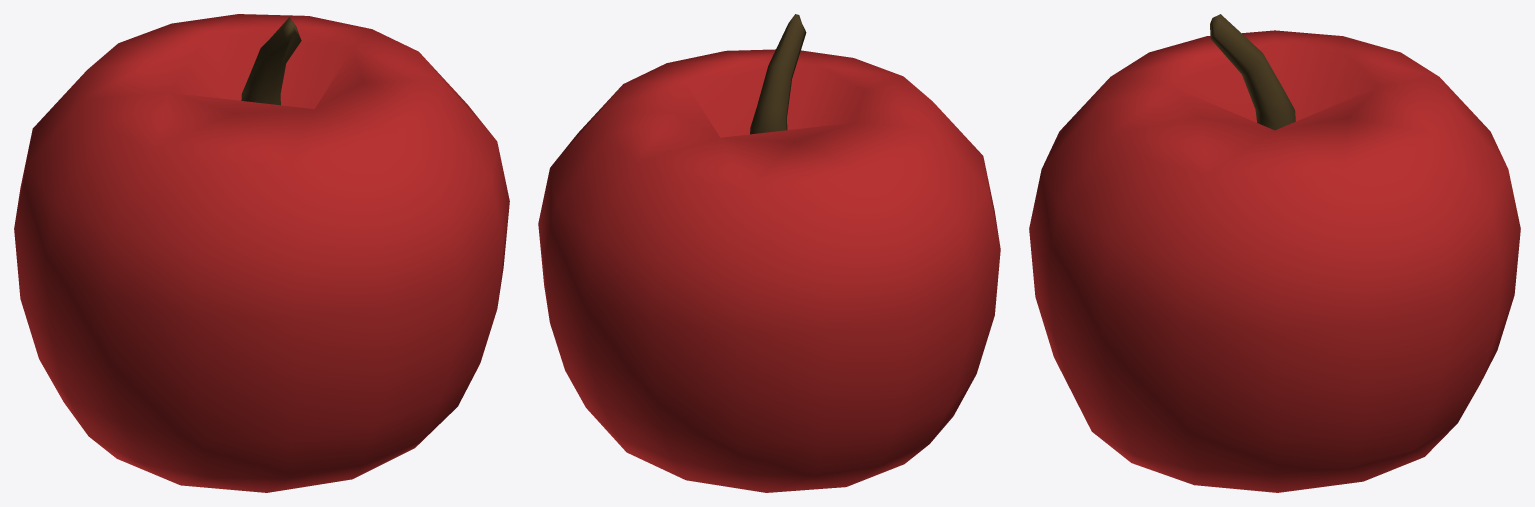
Rendered from Apple.fbx.
3 renders of one model, left to right at view 1: azimuth 30°, elevation 25°; view 2: azimuth 150°, elevation 25°; view 3: azimuth 270°, elevation 25°, orthographic. The views are drawn at different scales.
Visible parts, largest first — view 1: Apple1; view 2: Apple1; view 3: Apple1.
Boxes of the visible parts, bbox=[...] form: Apple1: bbox=[14, 14, 509, 492]; Apple1: bbox=[538, 14, 1000, 492]; Apple1: bbox=[1029, 14, 1520, 492].
Bounding box in the file's own units: 1.17 × 1.16 × 1.17.
